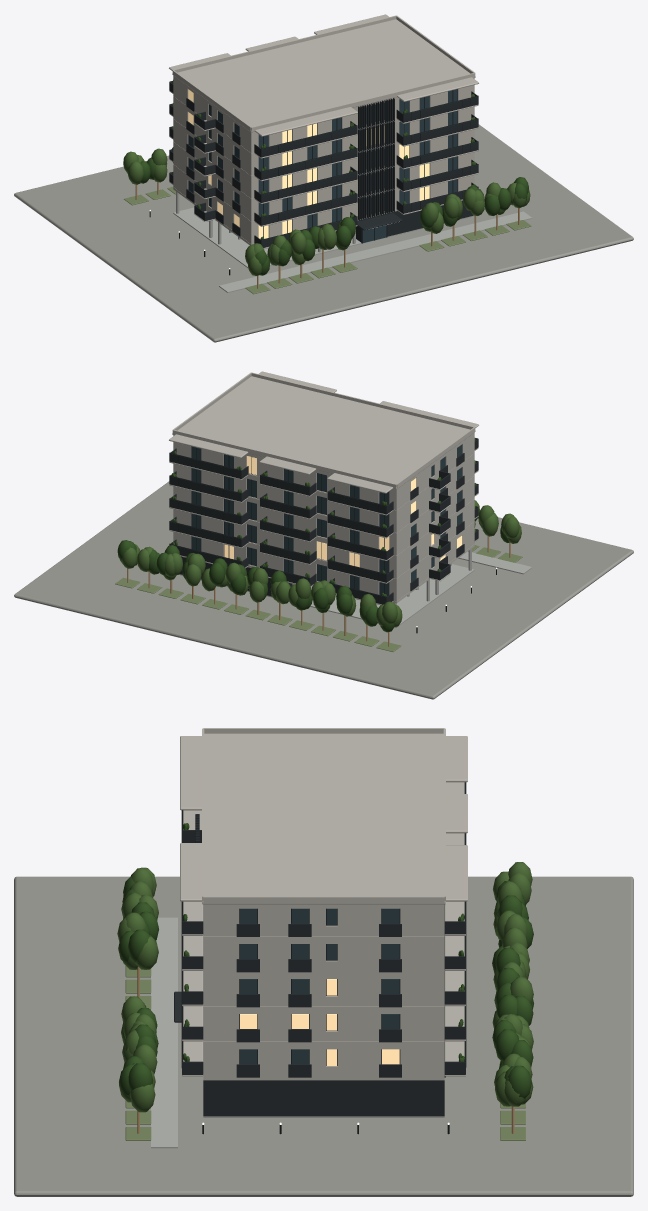
File: exterior-with-balconies.glb
3 views of the same model, one above another, from view 1: azimuth 30°, elevation 25°; view 2: azimuth 150°, elevation 25°; view 3: azimuth 270°, elevation 25° (orthographic). The views are drawn at different scales.
Parts seen in each view (by area): view 1: Presentation site, Roof slab — inferred termination, Front footpath, Ground floor slab, Roof parapet — inferred, Roof parapet — inferred.001, Front balcony roof, 5NP front balcony cladding, 3NP front balcony cladding, 4NP front balcony cladding, 6NP front balcony cladding, Ground floor enclosed core (+5 smaller); view 2: Presentation site, Roof slab — inferred termination, Ground floor slab, Roof parapet — inferred.001, Roof parapet — inferred, Rear balcony roof.002, 6NP rear balcony cladding.002, 3NP rear balcony cladding.002, 5NP rear balcony cladding.002, 4NP rear balcony cladding.002, Front footpath, Rear balcony roof (+5 smaller); view 3: Presentation site, Roof slab — inferred termination, Ground floor enclosed core, Front footpath, 3NP east lower wall, 5NP east lower wall, 2NP east lower wall, 4NP east lower wall, 6NP east lower wall, Roof parapet — inferred.003, Front balcony roof, 2NP east lintel (+29 smaller).
Part boxes in pixels (box(x1,y1,x2,y2)): Presentation site: box(14, 124, 633, 342); Roof slab — inferred termination: box(172, 19, 475, 132); Front footpath: box(219, 211, 532, 292); Ground floor slab: box(173, 207, 474, 268); Roof parapet — inferred: box(251, 73, 475, 131); Roof parapet — inferred.001: box(173, 15, 396, 72); Front balcony roof: box(254, 107, 357, 136); 5NP front balcony cladding: box(261, 148, 357, 180); 3NP front balcony cladding: box(261, 194, 357, 225); 4NP front balcony cladding: box(261, 171, 357, 202); 6NP front balcony cladding: box(261, 126, 357, 157); Ground floor enclosed core: box(356, 200, 473, 242); Presentation site: box(14, 481, 633, 699); Roof slab — inferred termination: box(172, 376, 475, 489); Ground floor slab: box(179, 564, 474, 627); Roof parapet — inferred.001: box(172, 430, 396, 488); Roof parapet — inferred: box(251, 372, 474, 429); Rear balcony roof.002: box(169, 434, 248, 458); 6NP rear balcony cladding.002: box(169, 453, 241, 478); 3NP rear balcony cladding.002: box(169, 521, 241, 547); 5NP rear balcony cladding.002: box(169, 476, 241, 501); 4NP rear balcony cladding.002: box(169, 499, 241, 524); Front footpath: box(458, 551, 532, 574); Rear balcony roof: box(327, 473, 393, 493); Presentation site: box(14, 876, 633, 1196); Roof slab — inferred termination: box(202, 733, 445, 904); Ground floor enclosed core: box(203, 1080, 444, 1116); Front footpath: box(151, 917, 177, 1148); 3NP east lower wall: box(203, 1031, 444, 1041); 5NP east lower wall: box(203, 960, 444, 971); 2NP east lower wall: box(203, 1066, 444, 1076); 4NP east lower wall: box(203, 996, 444, 1006); 6NP east lower wall: box(203, 925, 442, 936); Roof parapet — inferred.003: box(203, 896, 444, 902); Front balcony roof: box(180, 736, 201, 810); 2NP east lintel: box(203, 1044, 444, 1049).
Bounding box in the file's own units: 58 × 19.39 × 48.
